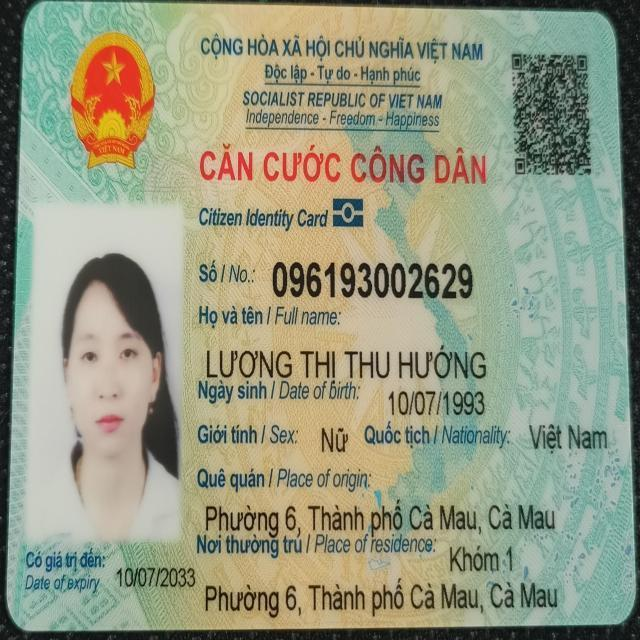current_place: (201, 572, 564, 617), (444, 541, 520, 578)
dob: (383, 388, 489, 421)
expire_date: (114, 561, 198, 595)
gender: (318, 418, 352, 459)
id: (266, 250, 476, 308)
name: (200, 339, 488, 386)
nationality: (521, 414, 612, 466)
origin_place: (193, 496, 561, 538)
